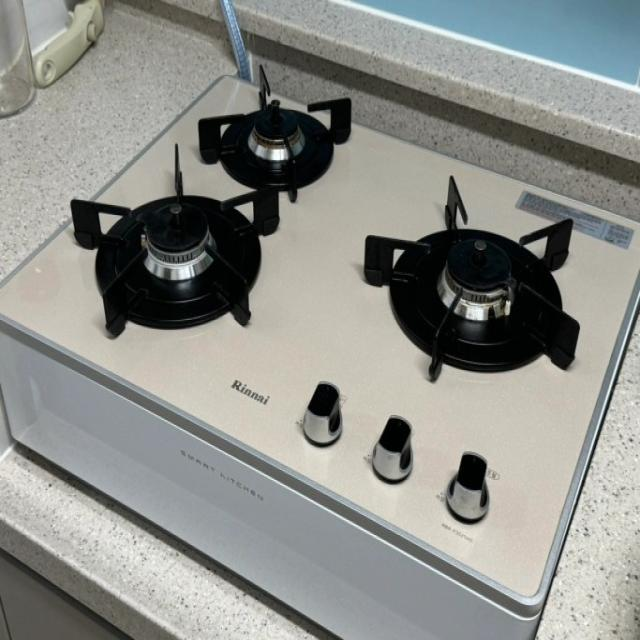knob_OFF: (336, 177, 628, 408), (68, 175, 344, 353), (176, 49, 371, 204)
